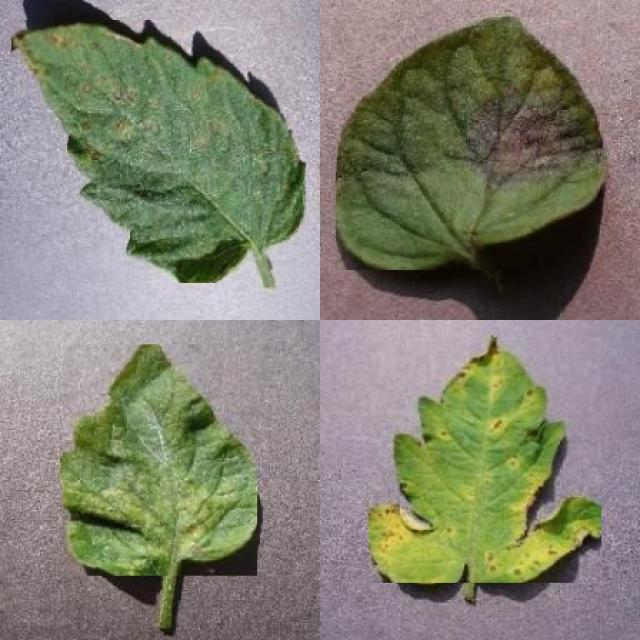Late Blight: (336, 17, 608, 270)
Septoria: (12, 21, 305, 282), (368, 337, 602, 583)
Spider Mites: (63, 344, 258, 576)
